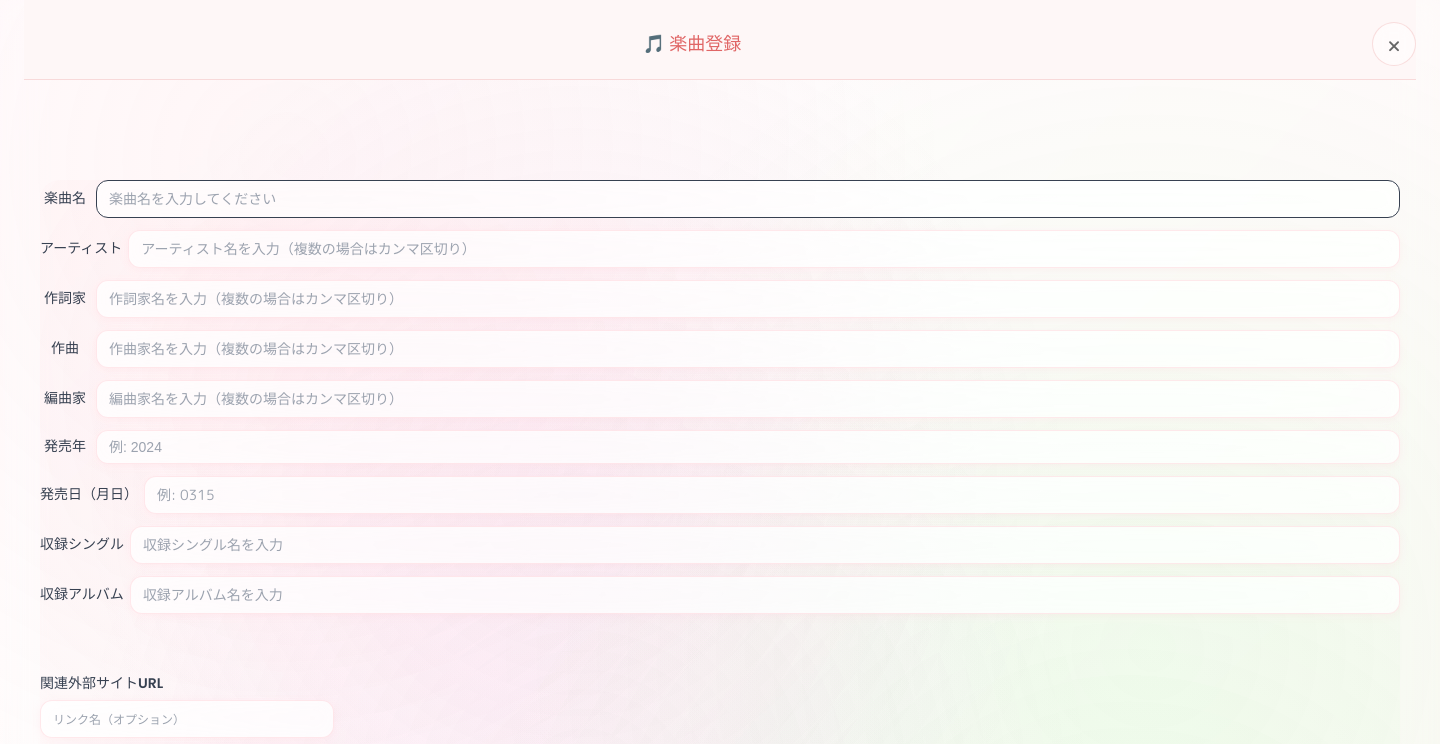
Test: SongRegistrationForm › form validation › should show error when title is too long
The width and height of the screenshot is (1440, 744).
Trigger change event
Type "x" into the field labelled "楽曲名" at (748, 199), box [96,180,1400,218]
(page scrolled)
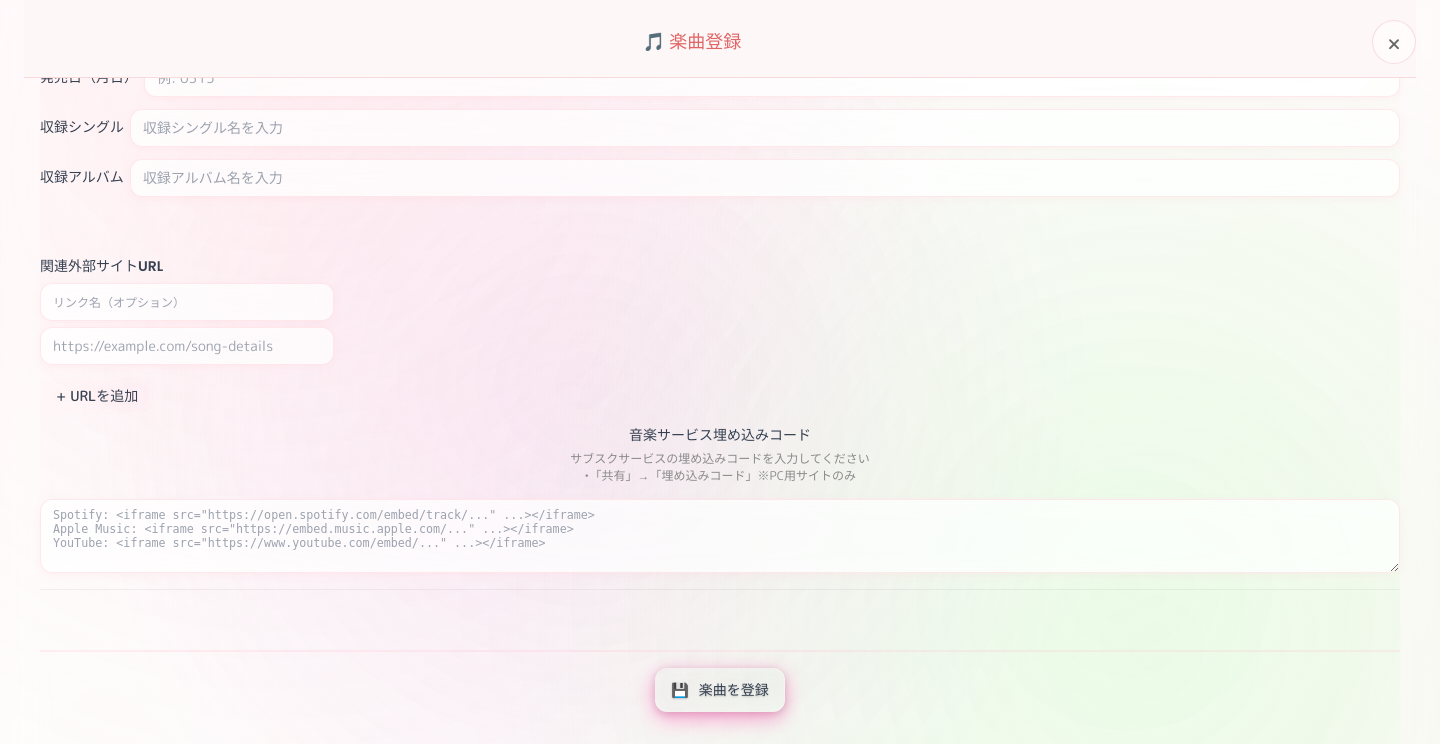
Click the button "楽曲を登録" at (720, 690), box [655,668,785,712]
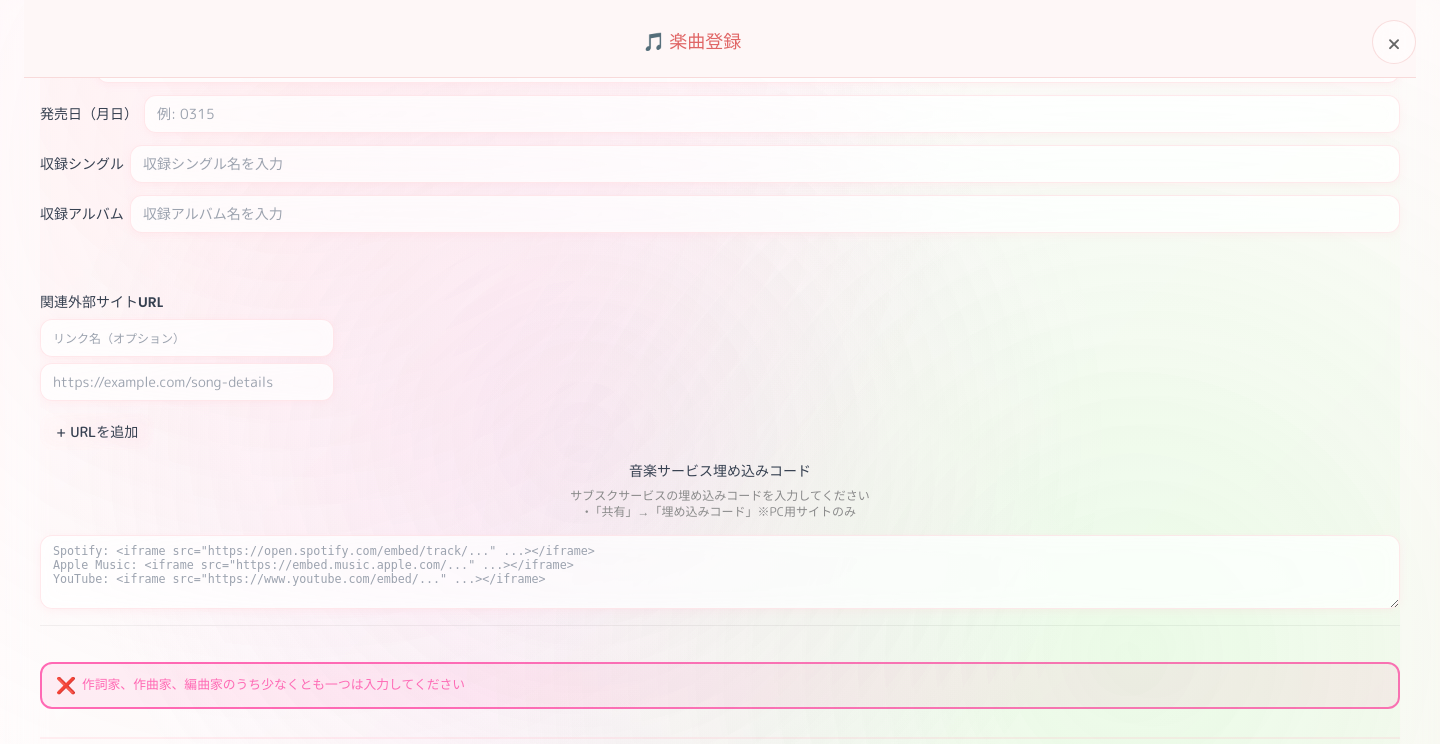
Expected: the text "作詞家、作曲家、編曲家のうち少なくとも一つは入力してください" is shown, [40,662,1400,709]
